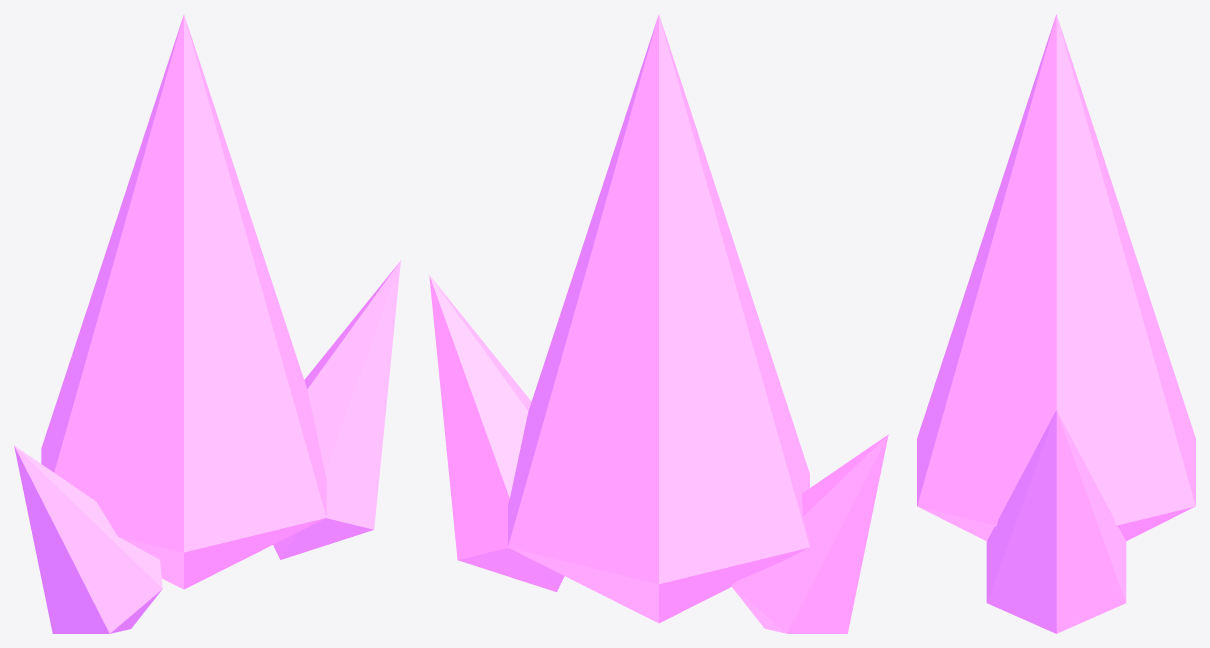
Rendered from crystal.glb.
3 renders of one model, left to right at view 1: azimuth 30°, elevation 25°; view 2: azimuth 150°, elevation 25°; view 3: azimuth 270°, elevation 25°, orthographic. The views are drawn at different scales.
Parts seen in each view (by area): view 1: crystal.glb; view 2: crystal.glb; view 3: crystal.glb.
Part boxes in pixels (x1,y1,x2,y2): crystal.glb: (14, 14, 400, 633); crystal.glb: (429, 14, 888, 633); crystal.glb: (917, 14, 1195, 633).
Bounding box in the file's own units: 0.2015 × 0.2717 × 0.1212.
